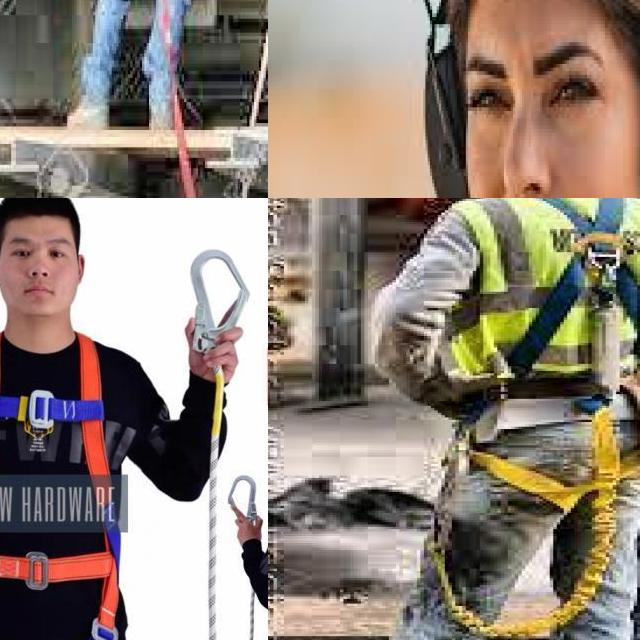Harness: (0, 334, 122, 552), (508, 198, 640, 376)
No_Glasses: (468, 30, 633, 137)
